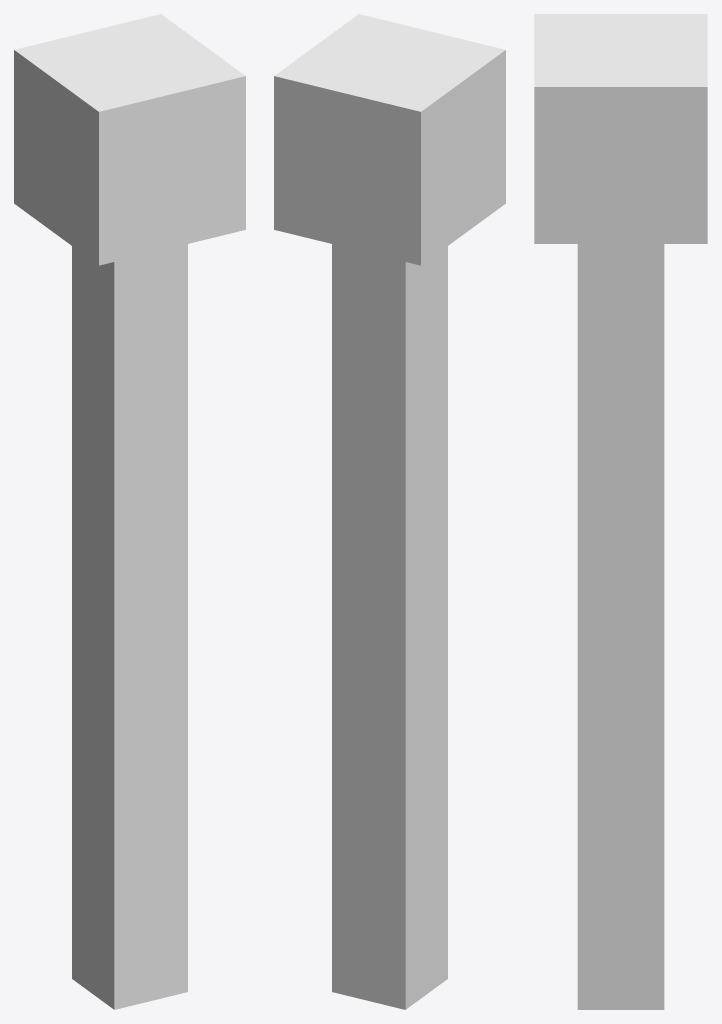
File: gizmoSquare.fbx
3 views of the same model, side by side, from view 1: azimuth 30°, elevation 25°; view 2: azimuth 150°, elevation 25°; view 3: azimuth 270°, elevation 25° (orthographic). The views are drawn at different scales.
Parts seen in each view (by area): view 1: cube, cube_1; view 2: cube, cube_1; view 3: cube, cube_1.
Part boxes in pixels (<box>): cube: <box>72,244,187,1009</box>; cube_1: <box>14,14,245,265</box>; cube: <box>332,244,447,1009</box>; cube_1: <box>274,14,505,265</box>; cube: <box>577,244,664,1009</box>; cube_1: <box>534,14,707,243</box>.
Size of the model in its own units: 12.5 by 75 by 12.5.
Materials: 1 (1 with a texture image).
